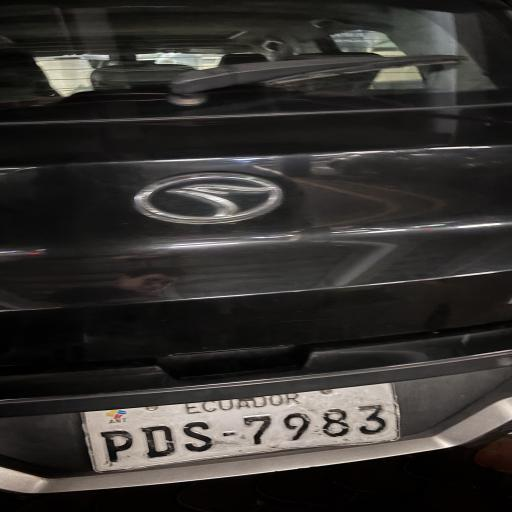license_plate: (83, 384, 399, 471)
